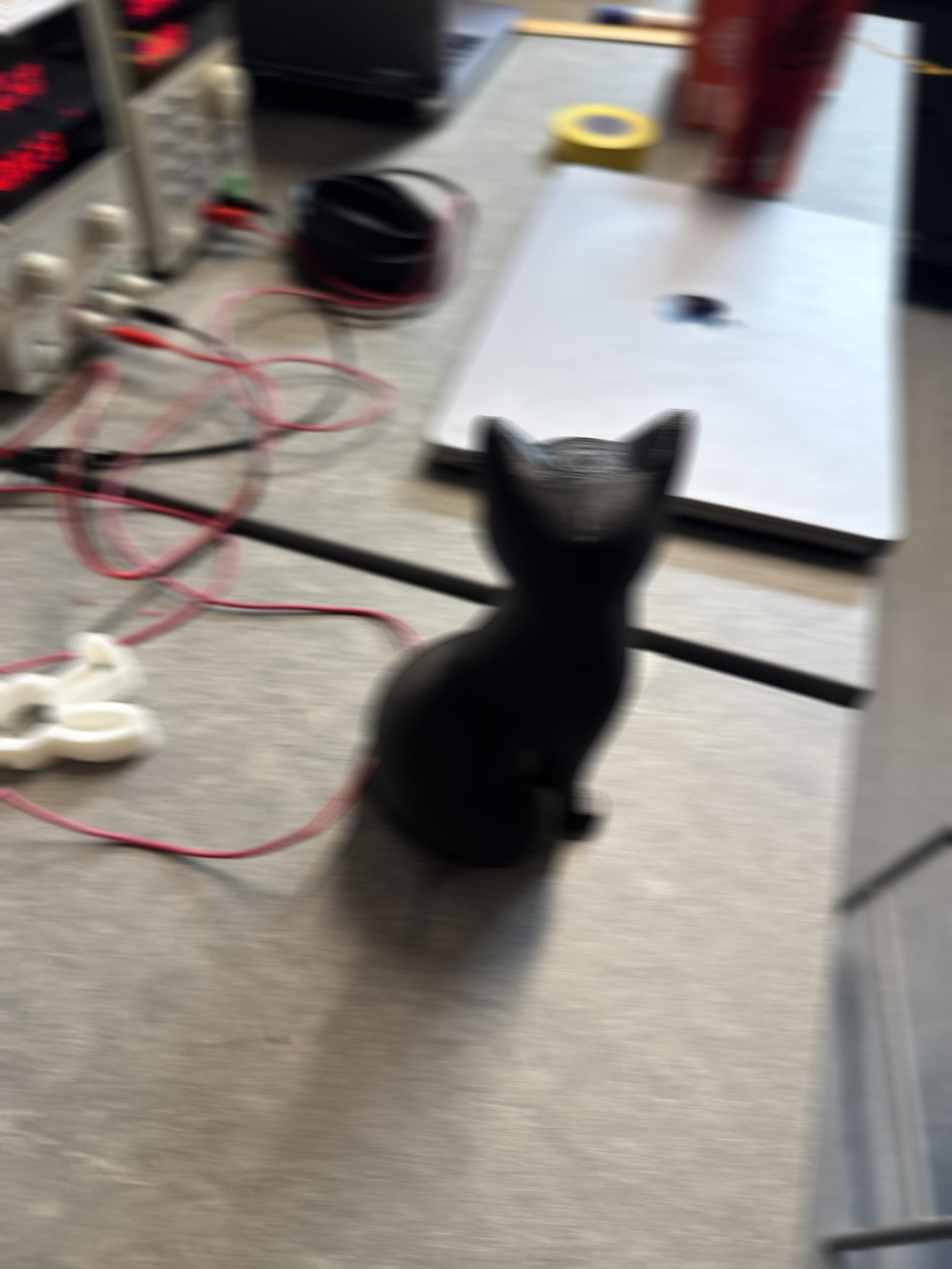cat: (337, 409, 693, 873)
